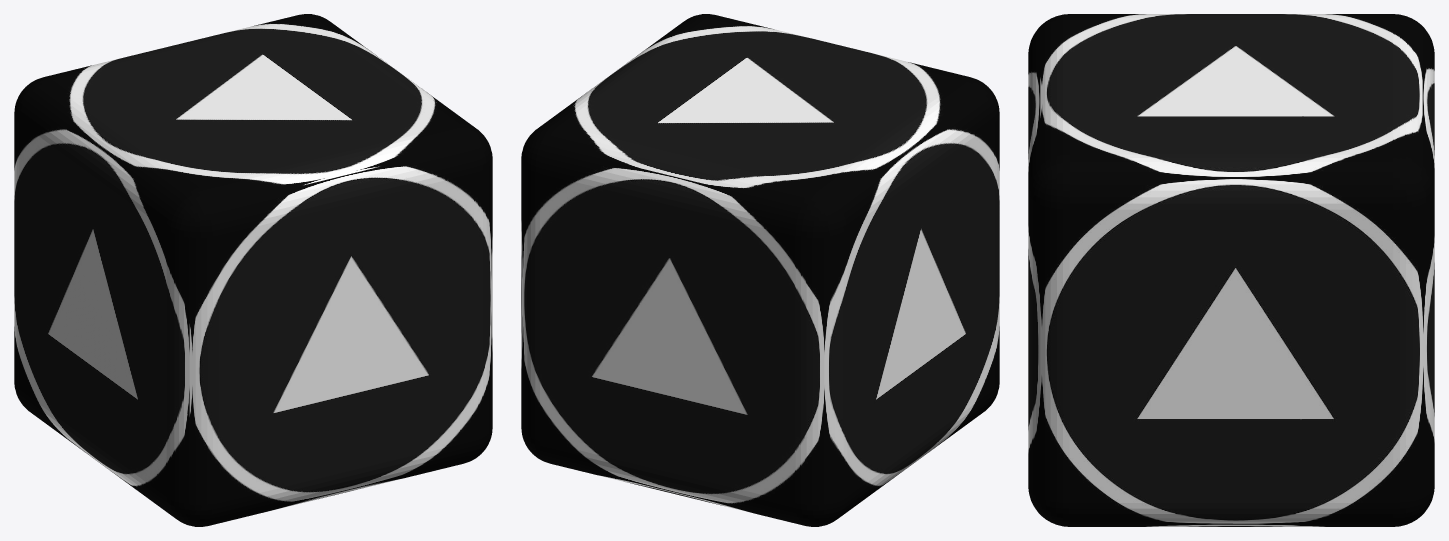
Rendered from PlayButton.fbx.
3 views of the same model, side by side, from view 1: azimuth 30°, elevation 25°; view 2: azimuth 150°, elevation 25°; view 3: azimuth 270°, elevation 25° (orthographic). The views are drawn at different scales.
Visible parts, largest first — view 1: Cube; view 2: Cube; view 3: Cube.
Part boxes in pixels (x1=…): Cube: x1=14, y1=14, x2=492, y2=526; Cube: x1=521, y1=14, x2=999, y2=526; Cube: x1=1028, y1=14, x2=1434, y2=526.
Bounding box in the file's own units: 200 × 200 × 200.
